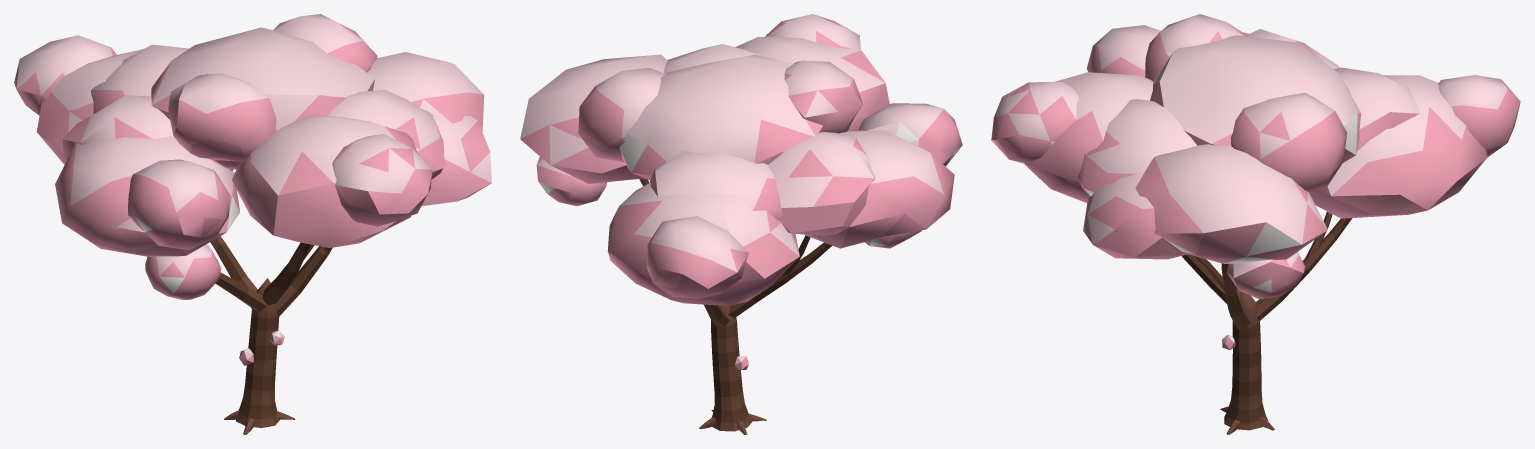
Rendered from SC_Nat_Cherry_Blossom.gltf.
3 renders of one model, left to right at view 1: azimuth 30°, elevation 25°; view 2: azimuth 150°, elevation 25°; view 3: azimuth 270°, elevation 25°, orthographic. The views are drawn at different scales.
Visible parts, largest first — view 1: SC_Nat_Cherry_Blossom; view 2: SC_Nat_Cherry_Blossom; view 3: SC_Nat_Cherry_Blossom.
Boxes of the visible parts, box(x1,y1,x2,y2) form: SC_Nat_Cherry_Blossom: box(14, 14, 491, 434); SC_Nat_Cherry_Blossom: box(520, 14, 962, 434); SC_Nat_Cherry_Blossom: box(991, 14, 1520, 434).
Bounding box in the file's own units: 7.21 × 6.25 × 8.12.
Materials: 1 (1 with a texture image).
